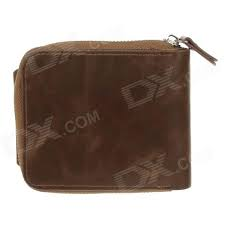monedero: (13, 36, 218, 194)
